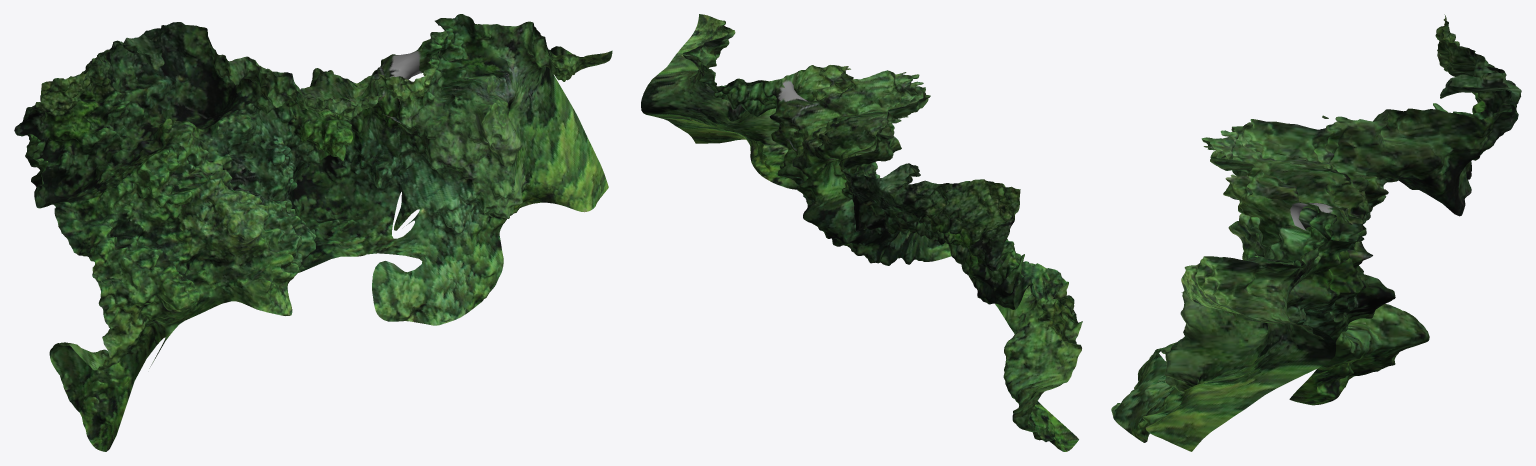
File: Tile_+025_+008.fbx
3 views of the same model, side by side, from view 1: azimuth 30°, elevation 25°; view 2: azimuth 150°, elevation 25°; view 3: azimuth 270°, elevation 25° (orthographic). The views are drawn at different scales.
Parts seen in each view (by area): view 1: DefaultName; view 2: DefaultName; view 3: DefaultName.
Part boxes in pixels (<box>): DefaultName: <box>14,14,612,451</box>; DefaultName: <box>641,14,1082,451</box>; DefaultName: <box>1111,14,1521,451</box>.
Size of the model in its own units: 22.54 by 15.2 by 14.46.
